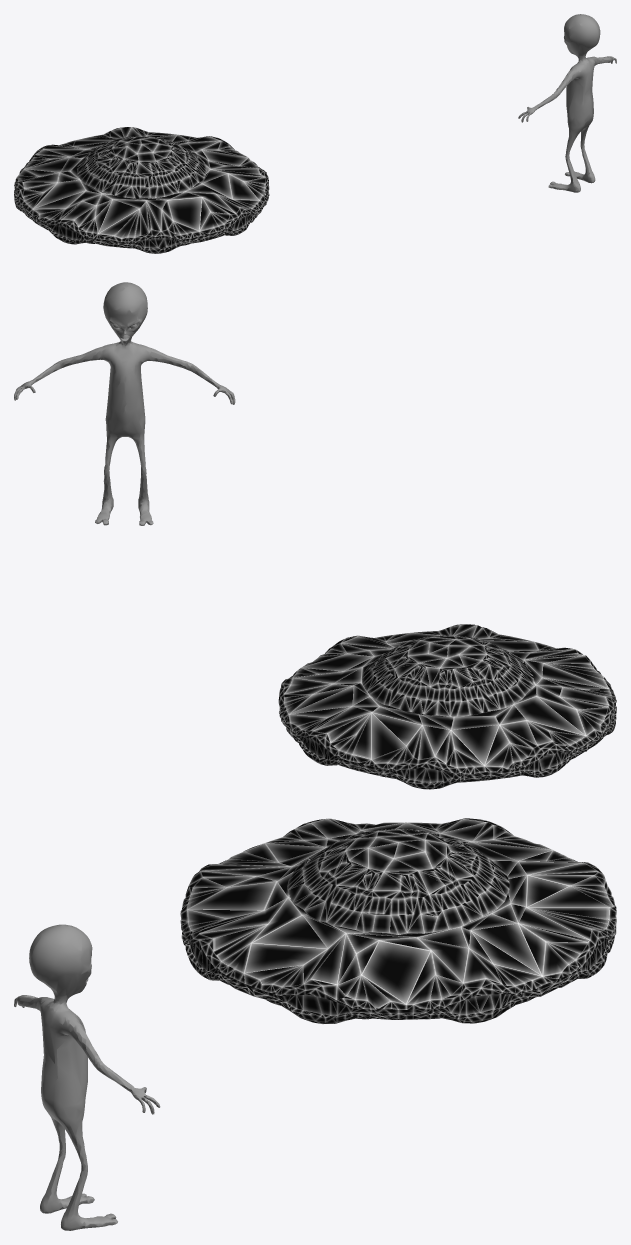
The model's file is frame_050.obj.
The picture shows the model from 3 angles, top to bottom: view 1: azimuth 30°, elevation 25°; view 2: azimuth 150°, elevation 25°; view 3: azimuth 270°, elevation 25°; orthographic projection. The views are drawn at different scales.
Parts seen in each view (by area): view 1: 13884_UFO_Saucer_v1_l2, 10469_GrayAlien_v01; view 2: 13884_UFO_Saucer_v1_l2, 10469_GrayAlien_v01; view 3: 13884_UFO_Saucer_v1_l2, 10469_GrayAlien_v01.
Part boxes in pixels (x1,y1,x2,y2): 13884_UFO_Saucer_v1_l2: [14, 127, 269, 253]; 10469_GrayAlien_v01: [518, 14, 616, 192]; 13884_UFO_Saucer_v1_l2: [278, 624, 616, 789]; 10469_GrayAlien_v01: [14, 282, 235, 525]; 13884_UFO_Saucer_v1_l2: [180, 818, 616, 1024]; 10469_GrayAlien_v01: [14, 924, 160, 1230].
Size of the model in its own units: 29.42 by 11.33 by 17.54.
